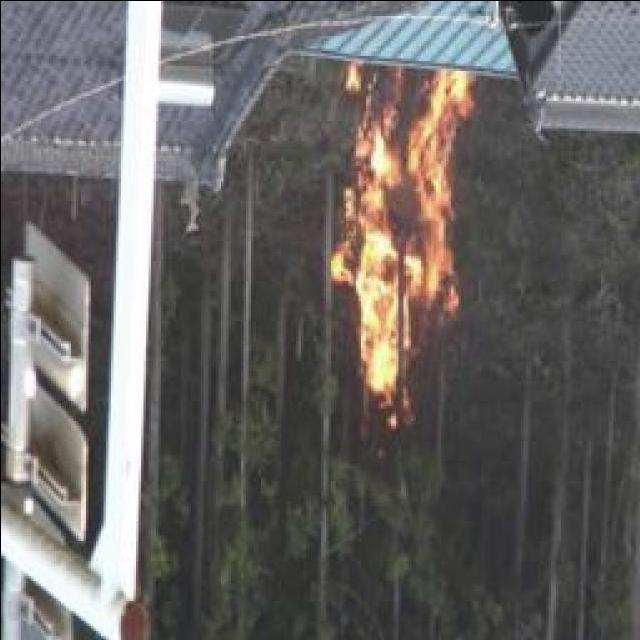Fire: (324, 58, 469, 410)
